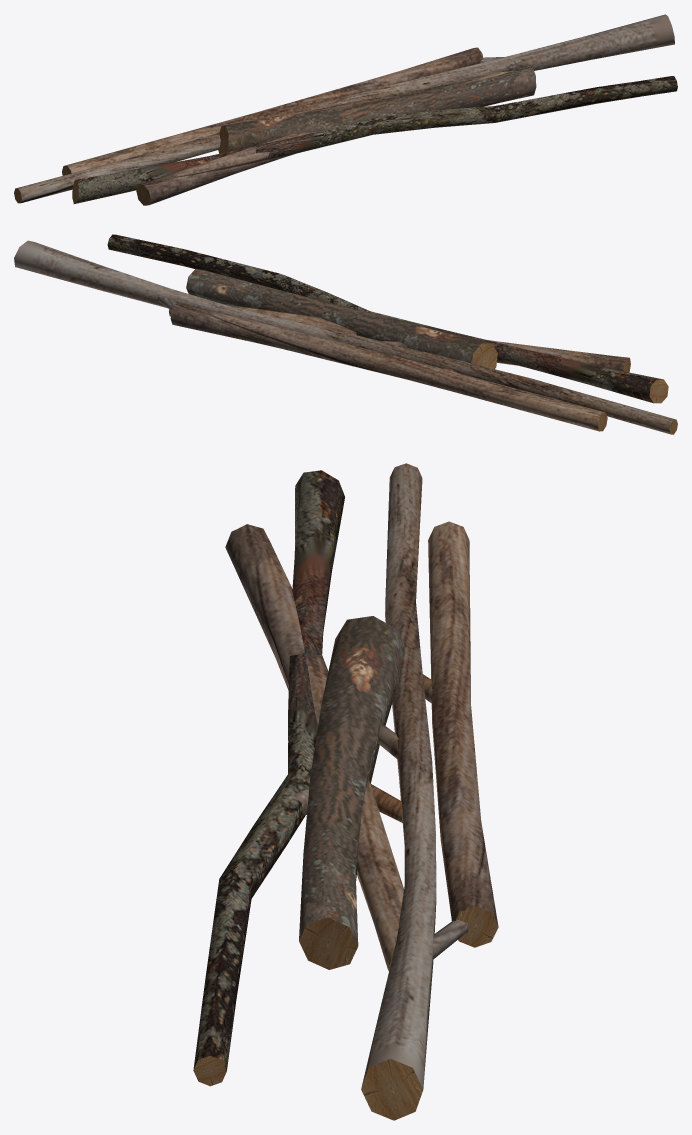
Rendered from village_wood_stick_03.fbx.
3 views of the same model, one above another, from view 1: azimuth 30°, elevation 25°; view 2: azimuth 150°, elevation 25°; view 3: azimuth 270°, elevation 25° (orthographic). The views are drawn at different scales.
Visible parts, largest first — view 1: village_wood_stick_03; view 2: village_wood_stick_03; view 3: village_wood_stick_03.
Boxes of the visible parts, x1,y1,x2,y2 form: village_wood_stick_03: (14,14,677,205); village_wood_stick_03: (14,234,677,434); village_wood_stick_03: (193,463,498,1120).
Size of the model in its own units: 203 by 11.75 by 41.13.
